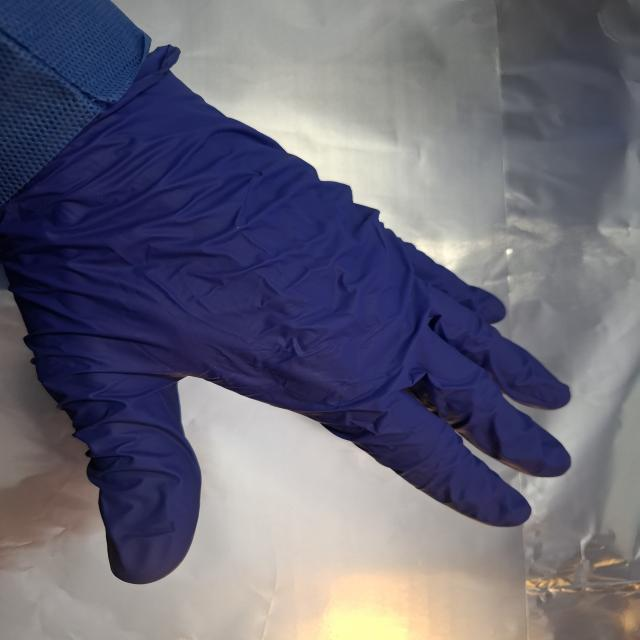glove_on: (0, 68, 577, 588)
